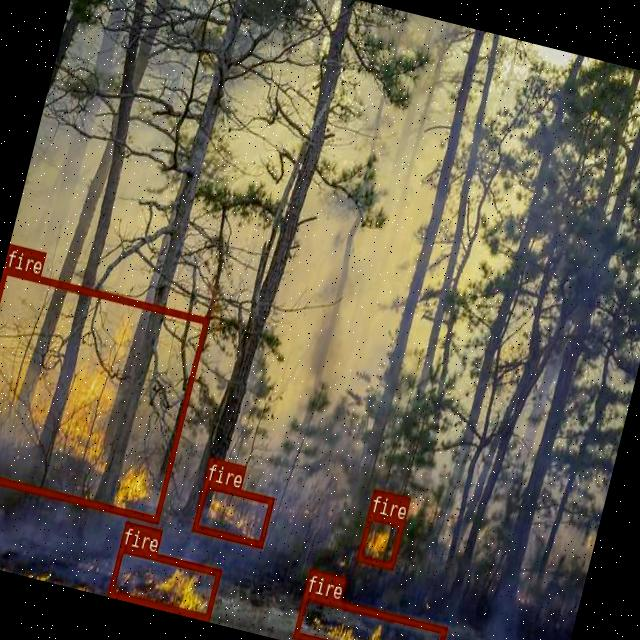fire: (0, 265, 207, 522), (107, 544, 220, 618), (291, 591, 445, 640), (190, 479, 274, 547), (356, 512, 404, 568)
